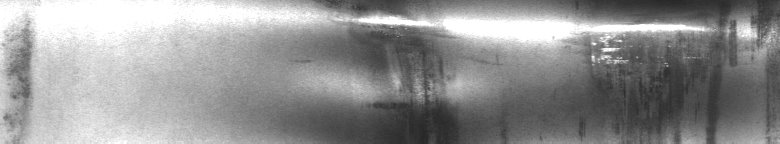ke: (304, 4, 452, 109)
